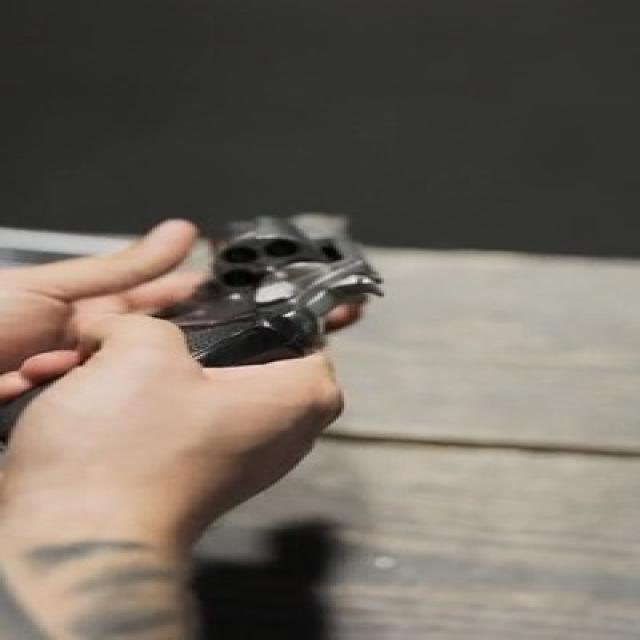Gun_Holder: (69, 199, 468, 419)
